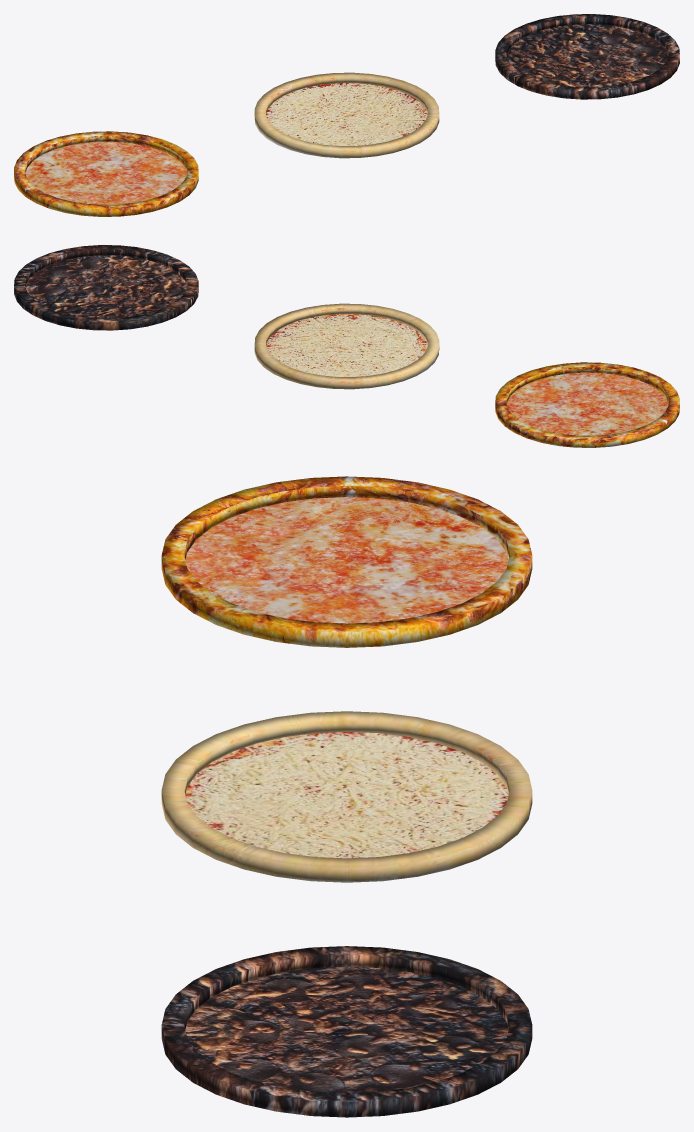
Rendered from Pizza.glb.
3 views of the same model, one above another, from view 1: azimuth 30°, elevation 25°; view 2: azimuth 150°, elevation 25°; view 3: azimuth 270°, elevation 25° (orthographic). The views are drawn at different scales.
Visible parts, largest first — view 1: Pizza_Uncooked, pizza, Pizza_Burnt; view 2: Pizza_Uncooked, pizza, Pizza_Burnt; view 3: Pizza_Uncooked, pizza, Pizza_Burnt.
Boxes of the visible parts, box(x1,y1,x2,y2) form: Pizza_Uncooked: box(254, 72, 439, 158); pizza: box(14, 131, 198, 216); Pizza_Burnt: box(495, 14, 679, 99); Pizza_Uncooked: box(254, 303, 439, 389); pizza: box(495, 362, 679, 447); Pizza_Burnt: box(14, 245, 198, 330); Pizza_Uncooked: box(161, 711, 532, 882); pizza: box(161, 476, 532, 647); Pizza_Burnt: box(161, 946, 532, 1117).
Bounding box in the file's own units: 8 × 0.1129 × 2.
Materials: 6 (6 with a texture image).
